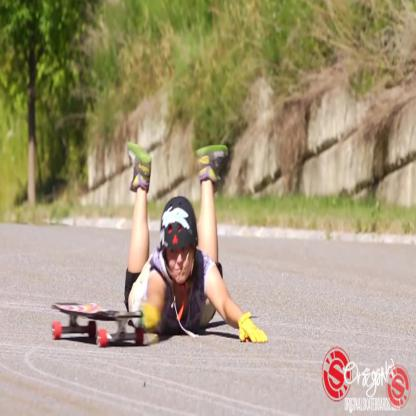Fall_Down: (122, 138, 274, 352)
